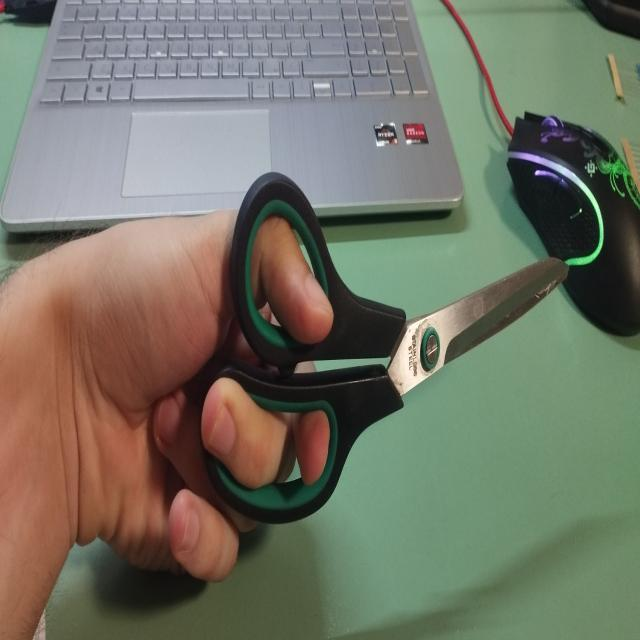tesoura: (199, 161, 571, 529)
